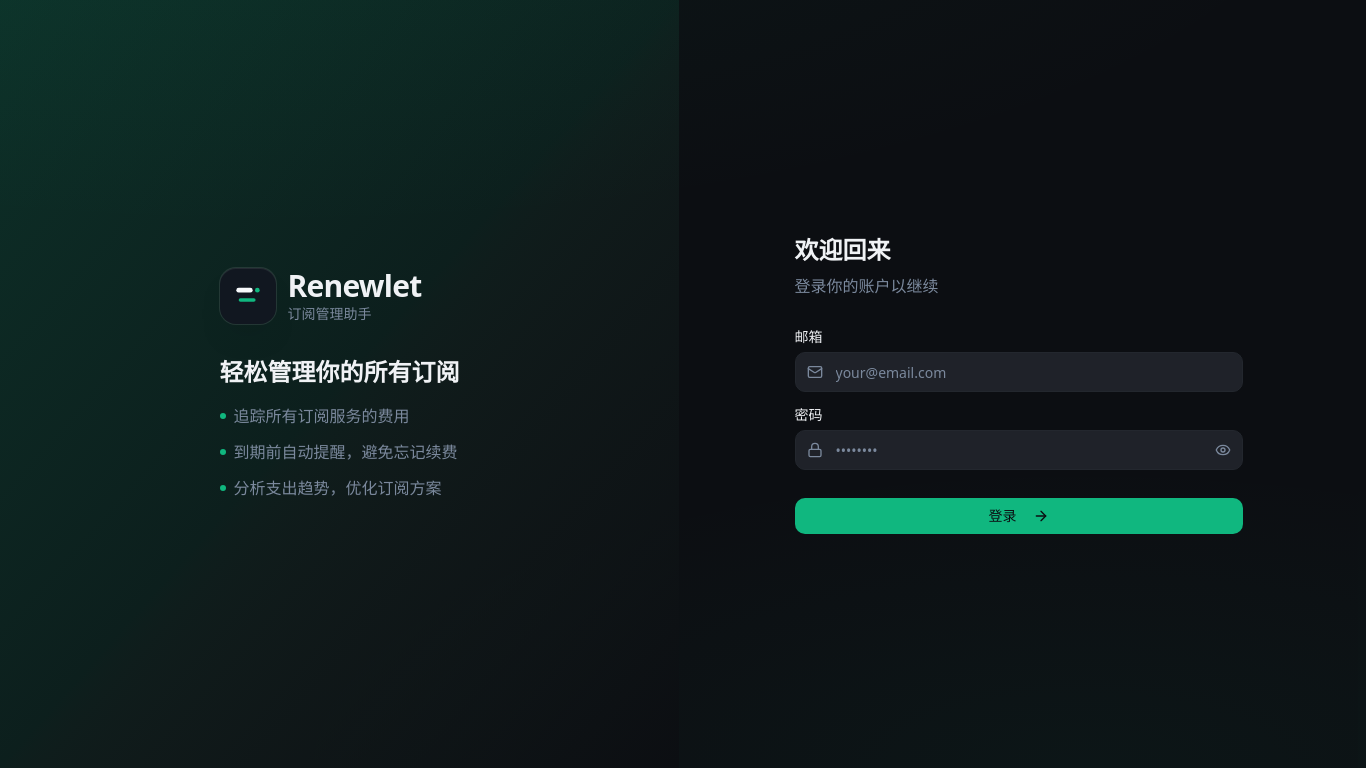
Test: Login page › uses form errors instead of native validation for empty credentials
This screenshot has width=1366, height=768.
What coordinates should you click on to do the following:
click the button "登录"
I would click on:
 (1018, 516)
Its box is x1=794 y1=498 x2=1242 y2=534.
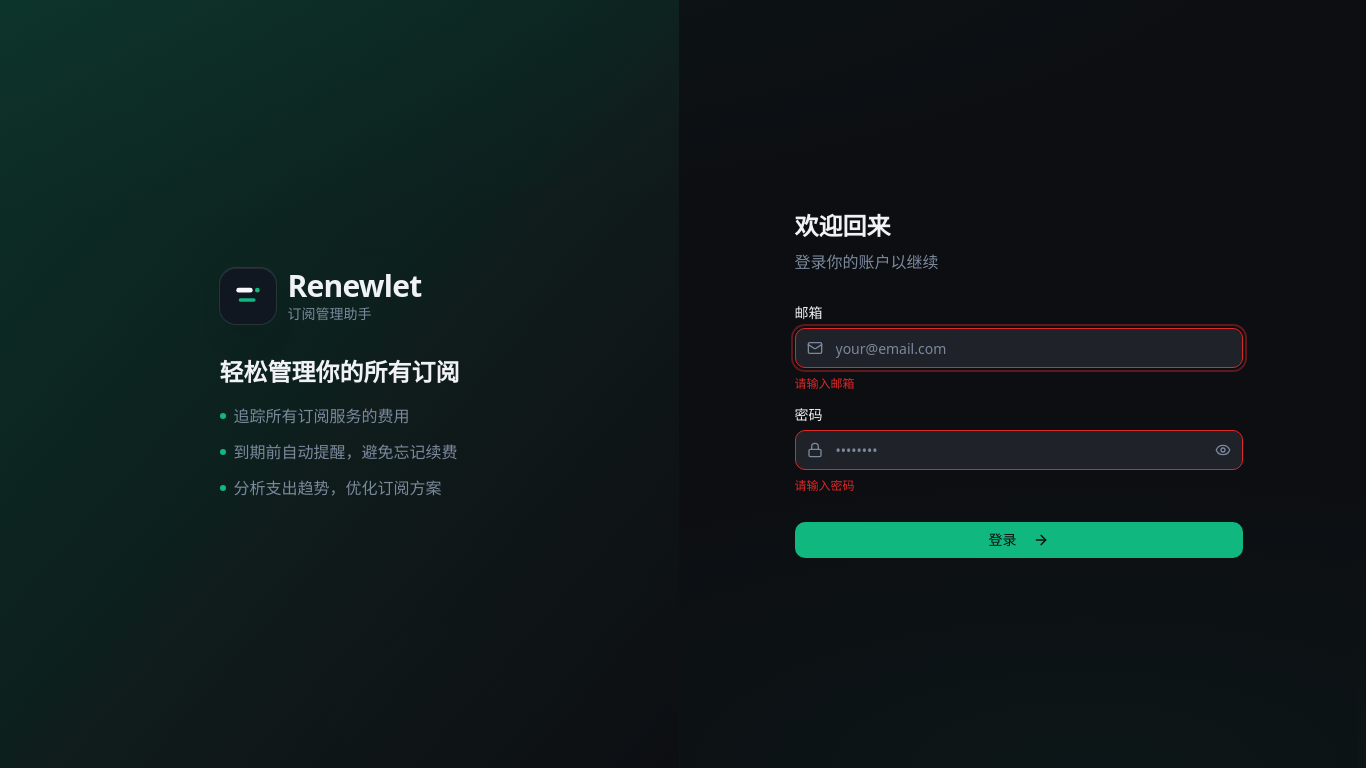
Now the text "请输入邮箱" is shown, box x1=794 y1=375 x2=854 y2=392
Now the text "请输入密码" is shown, box x1=794 y1=477 x2=854 y2=494
